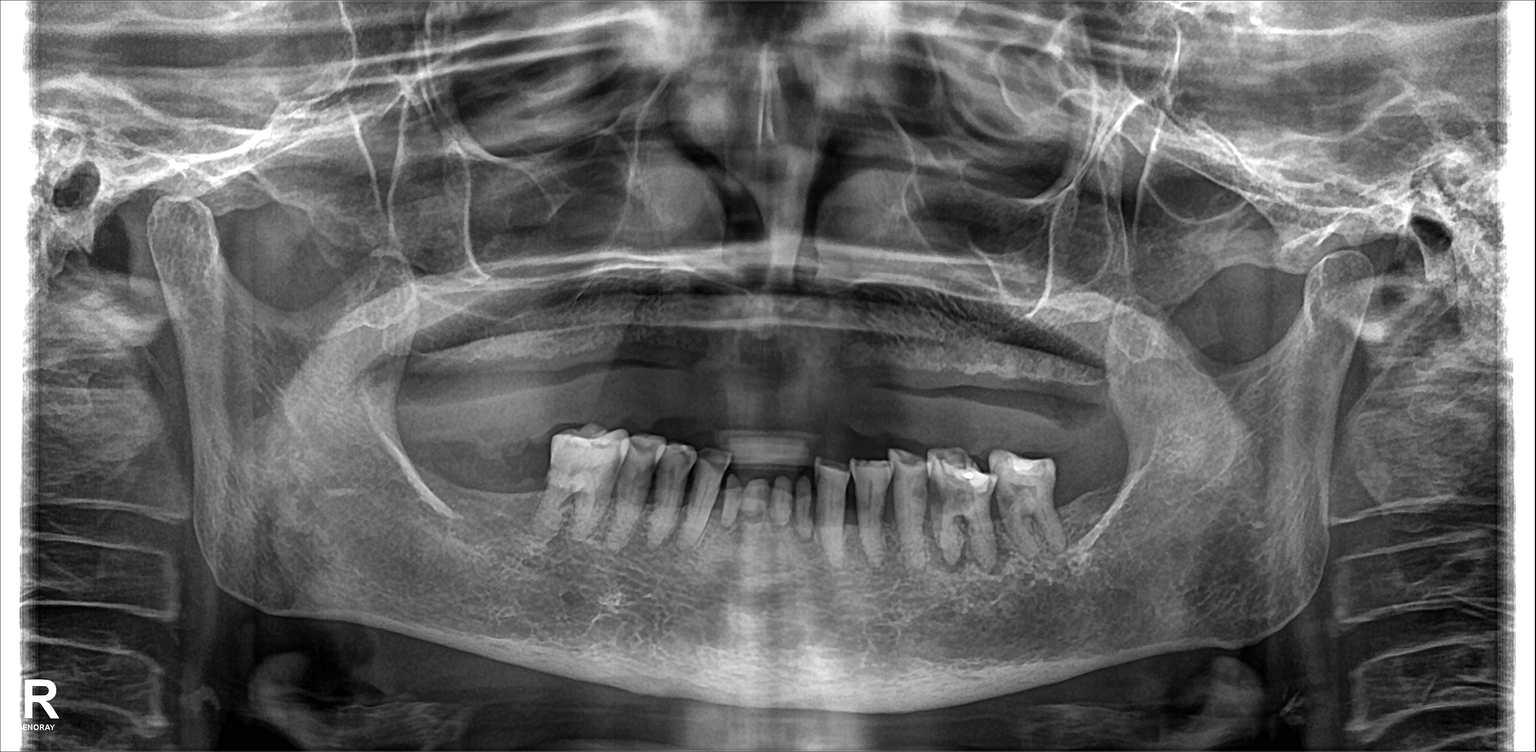Dental Caries: (924, 478, 973, 524)
Missing Tooth: (1050, 456, 1113, 542), (391, 430, 438, 536), (704, 285, 745, 389), (566, 292, 605, 393), (520, 434, 559, 535), (473, 307, 517, 395), (439, 439, 484, 523), (659, 281, 697, 380), (516, 302, 556, 395), (611, 296, 650, 390), (933, 290, 971, 384), (849, 283, 885, 380), (983, 296, 1022, 381), (1028, 305, 1062, 401), (760, 281, 793, 377), (808, 285, 840, 384), (1069, 315, 1105, 399), (894, 279, 921, 390), (490, 434, 517, 533), (436, 320, 471, 396), (397, 309, 429, 390)
